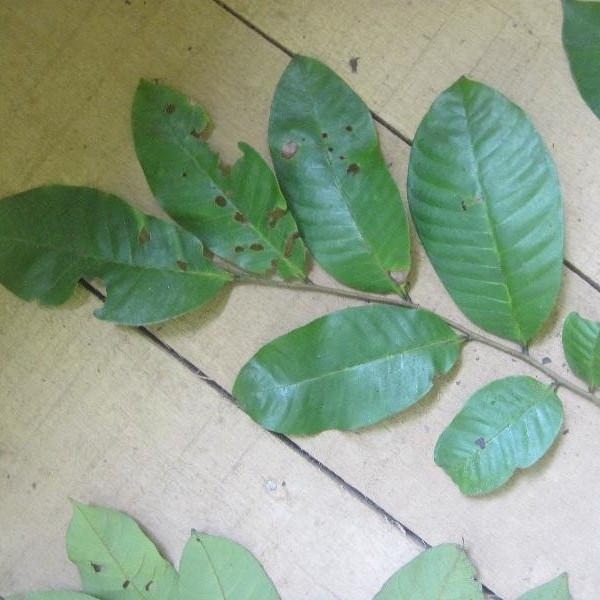obstacle: (75, 90, 552, 478)
